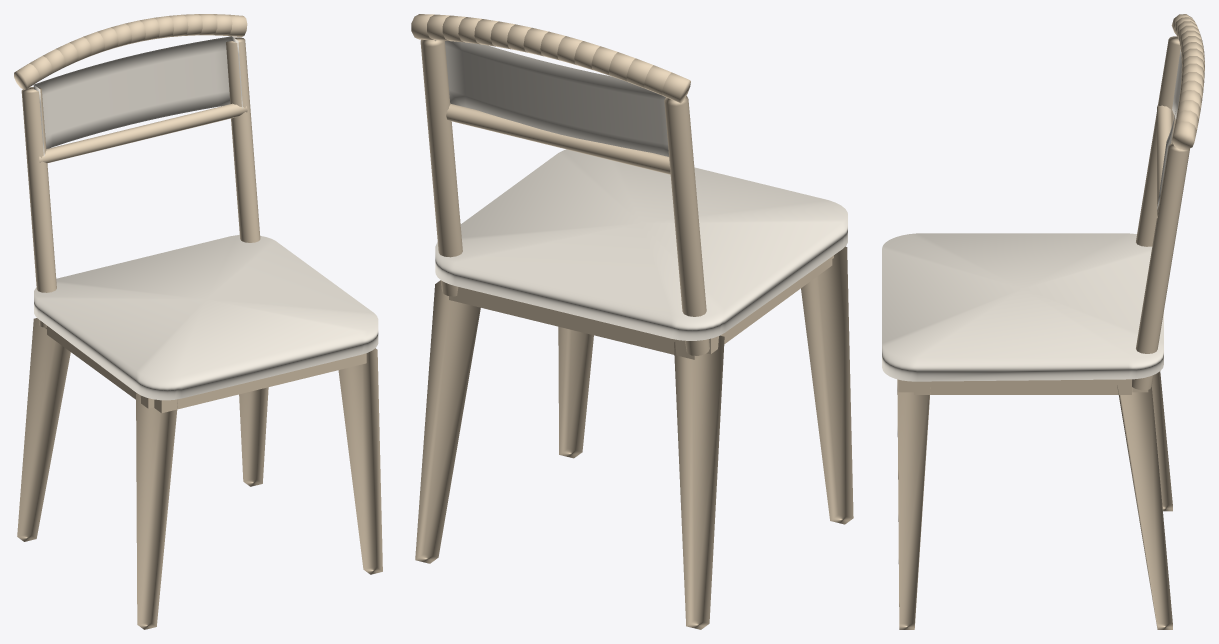
File: oak-desk-chair-v1.glb
3 views of the same model, side by side, from view 1: azimuth 30°, elevation 25°; view 2: azimuth 150°, elevation 25°; view 3: azimuth 270°, elevation 25° (orthographic). The views are drawn at different scales.
Parts seen in each view (by area): view 1: oak-desk-chair; view 2: oak-desk-chair; view 3: oak-desk-chair.
Boxes of the visible parts, x1,y1,x2,y2 form: oak-desk-chair: (14,14,382,629); oak-desk-chair: (411,14,853,629); oak-desk-chair: (882,14,1204,629).
Size of the model in its own units: 0.462 by 0.8811 by 0.504.
